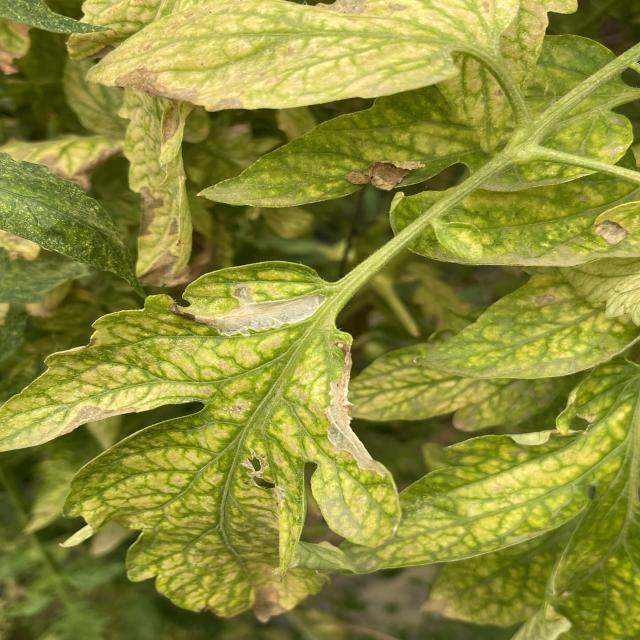Tuta absoluta: (168, 263, 330, 354), (307, 337, 384, 485), (59, 405, 139, 433), (240, 453, 274, 493)
